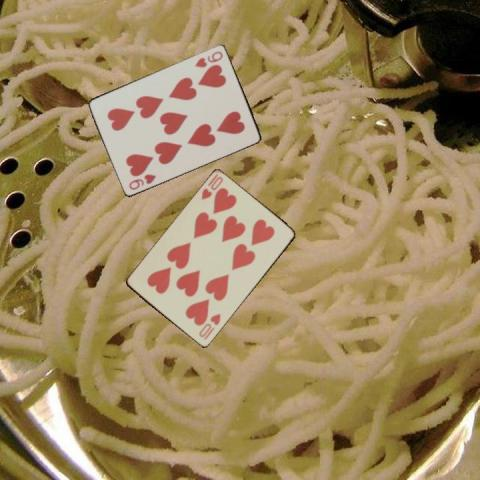10h: (198, 172, 225, 202), (196, 311, 222, 341)
9h: (192, 48, 225, 69), (126, 170, 158, 190)
